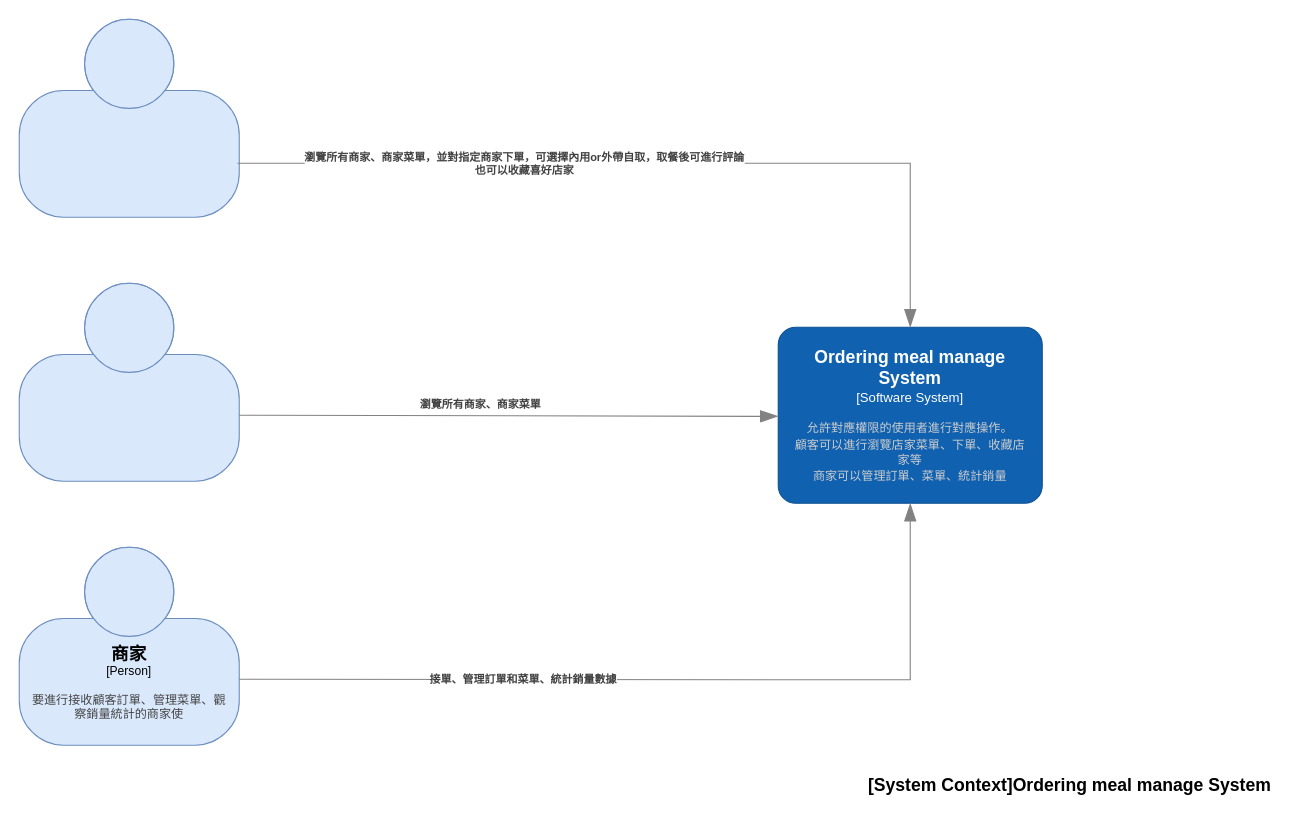
The diagram is 1293 pixels wide and 831 high, and some of its shapes have lost their labels. Here are the shapes that lost their labels. From the top down, the centre of each, then its label:
At pixel 128 117: "登入之顧客 [Person] 要進行瀏覽商家菜單並點餐、收藏店家的顧客，且已登入帳號".
At pixel 128 381: "未登入之顧客 [Person] 要進行瀏覽商家菜單的顧客，但未登入帳號".
